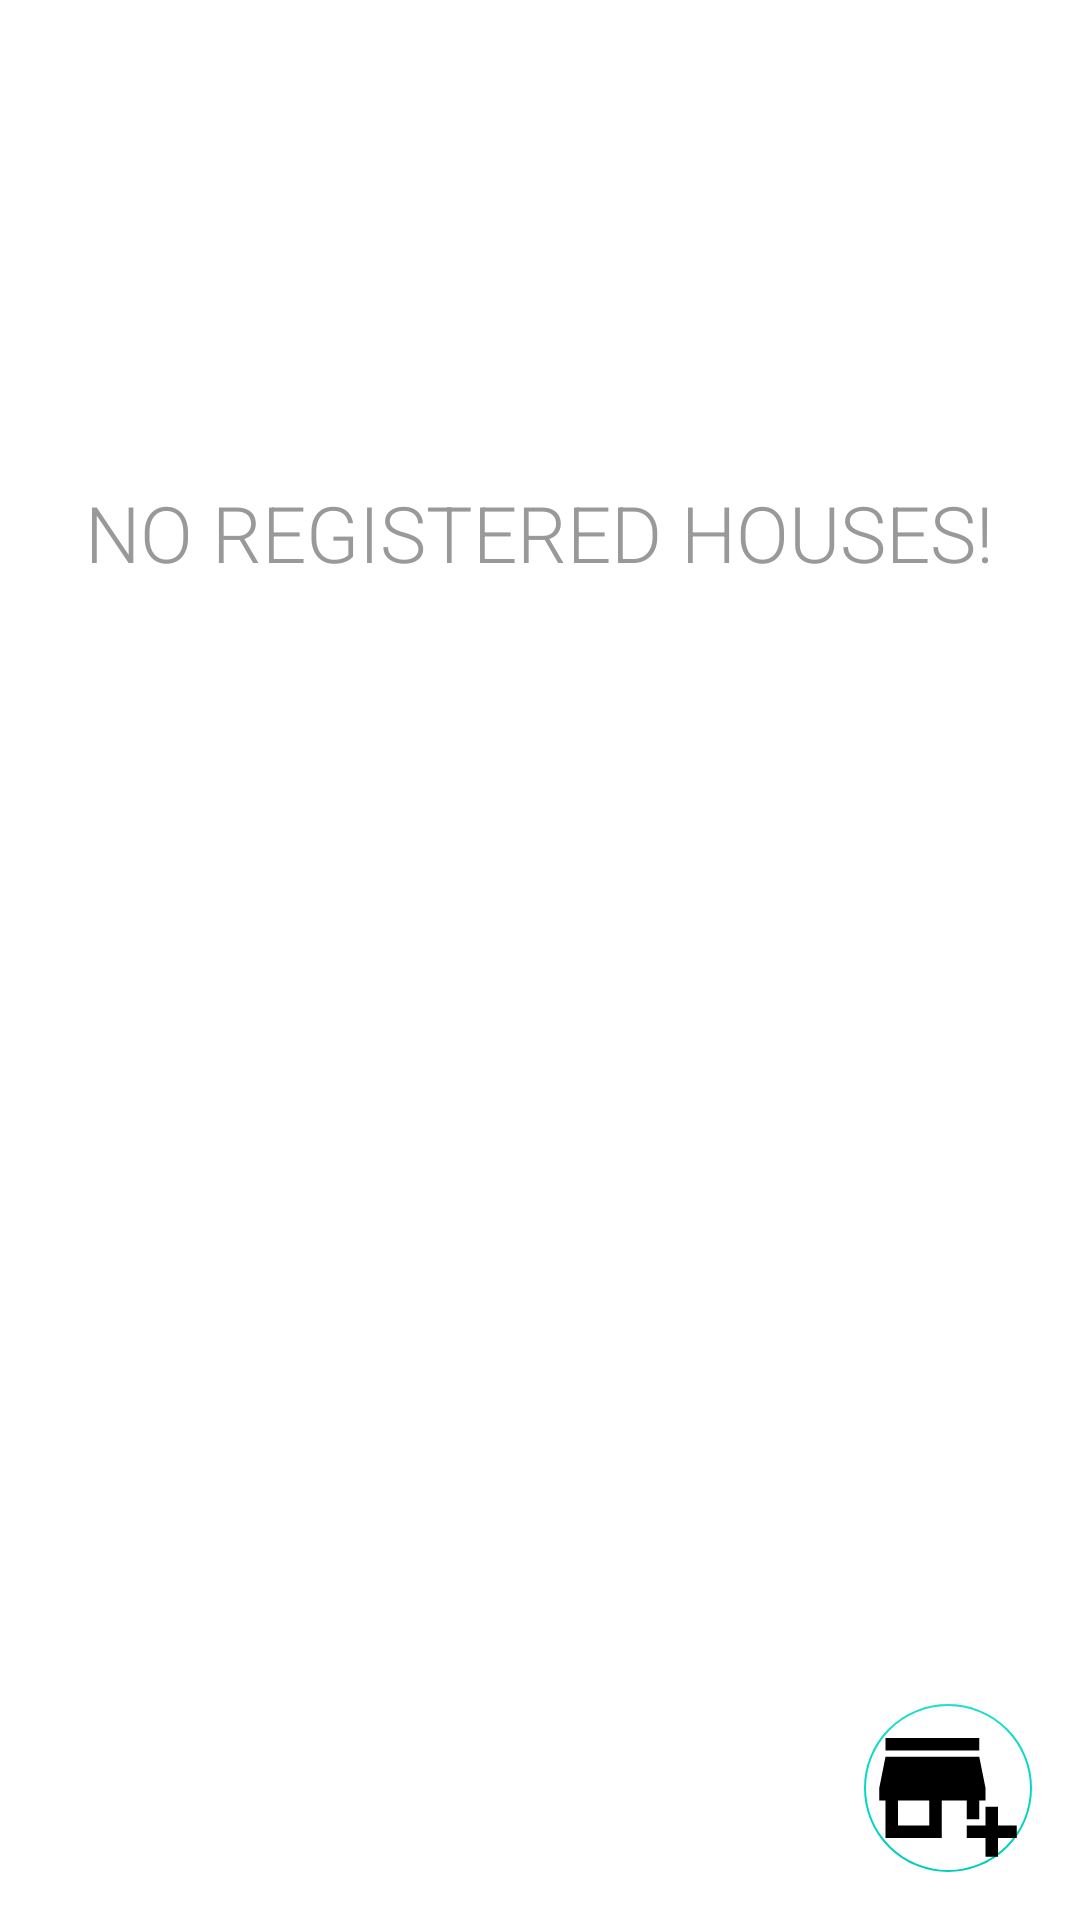

Point at icon controls on the screen. Image size 1080w x 1920h, points as (x=x, y=y).
Click me to add new Houses: (x=948, y=1788)
